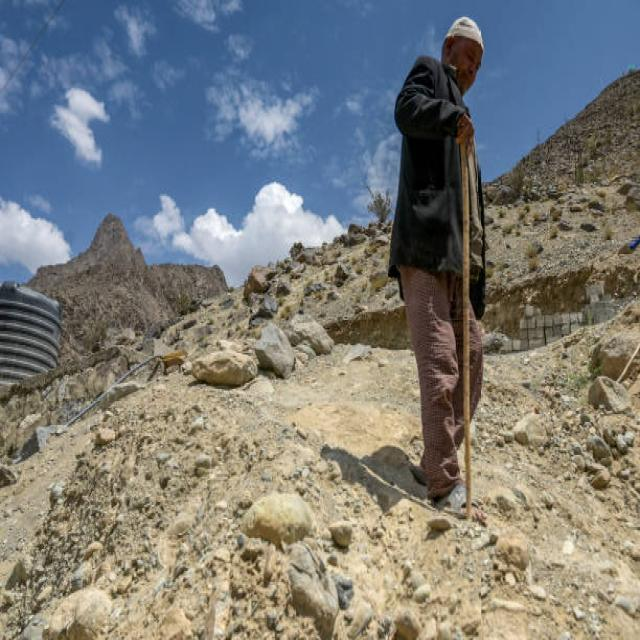civilian: (388, 17, 484, 508)
